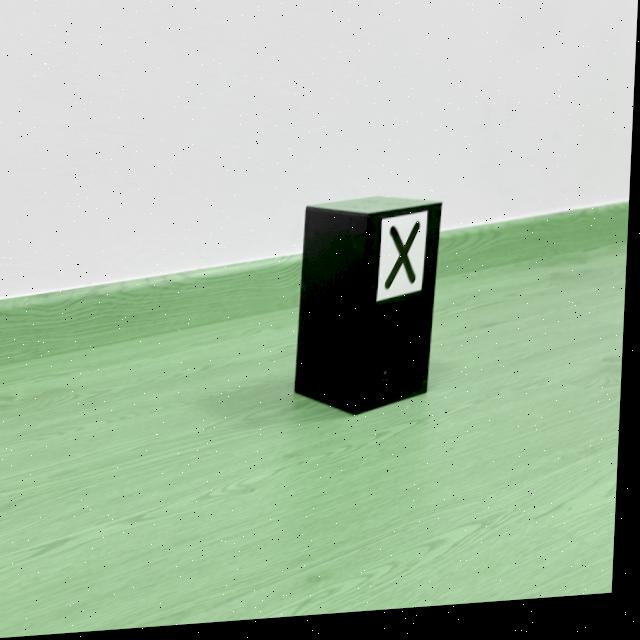X: (388, 228, 422, 295)
